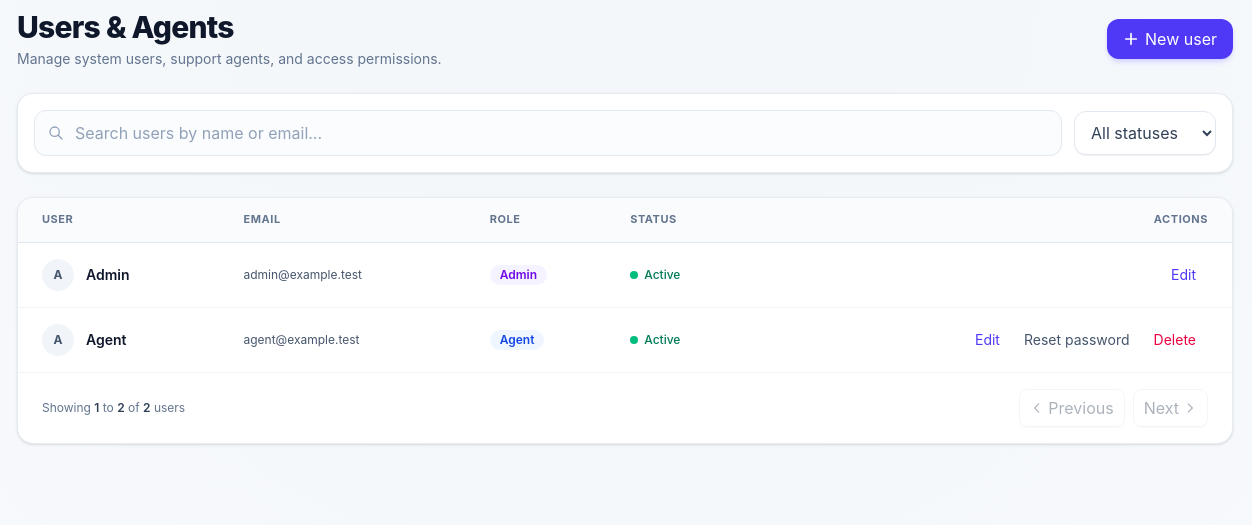
AdminUsersView — row actions › deletes straight away when nothing blocks it
The image size is (1252, 525).
Step 1. Click the button with test id "users-delete" → (1175, 340), box x1=1142 y1=326 x2=1208 y2=354
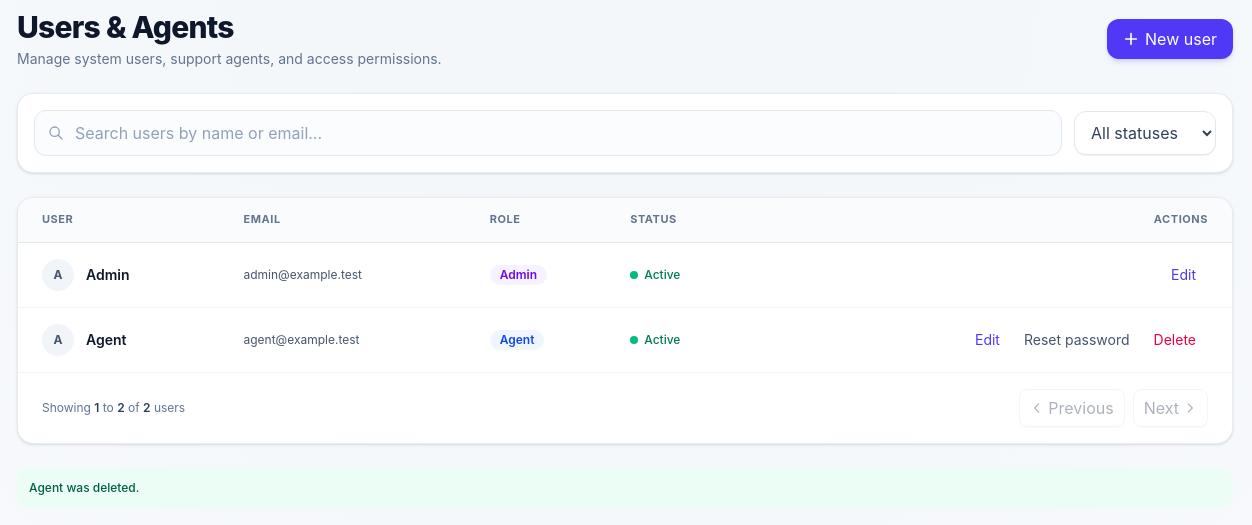
Expected: the text with test id "users-notice" reads "Agent was deleted.", x1=29 y1=480 x2=139 y2=495
